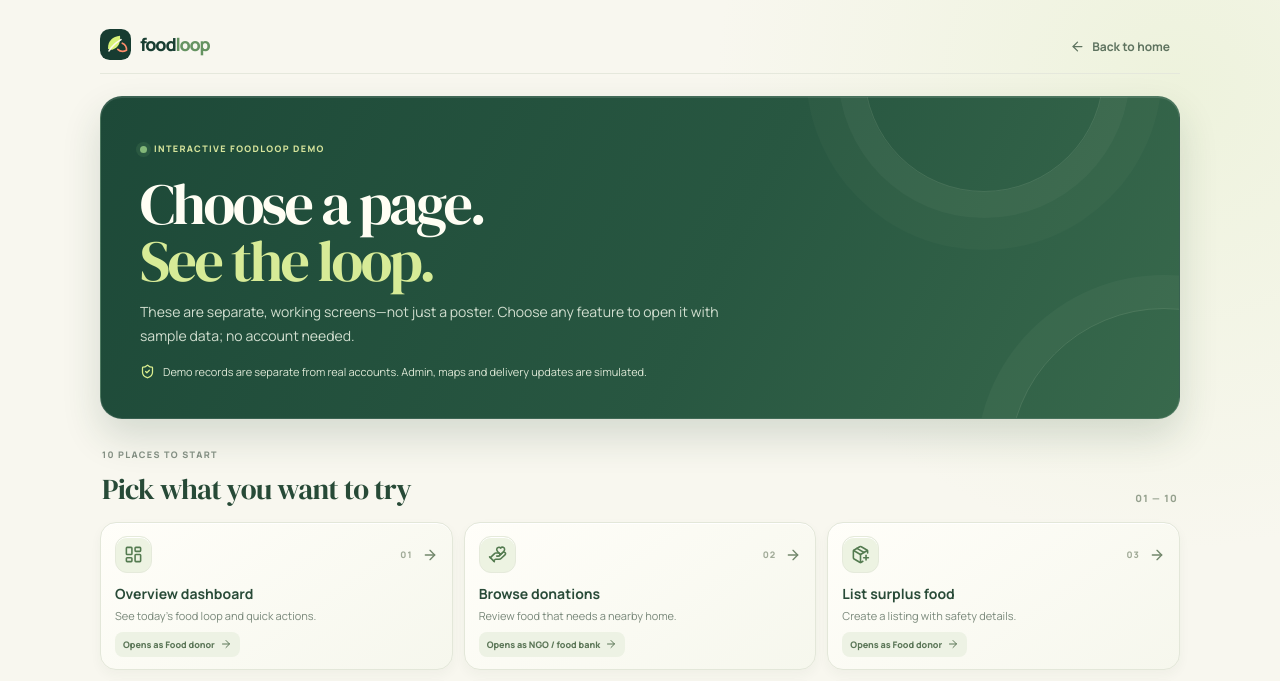
it: FoodLoop screen selection › opens Browse donations with the ngo demo identity
Click the button with aria-label "Open Browse donations as NGO / food bank": (497, 555) x1=464 y1=522 x2=816 y2=670
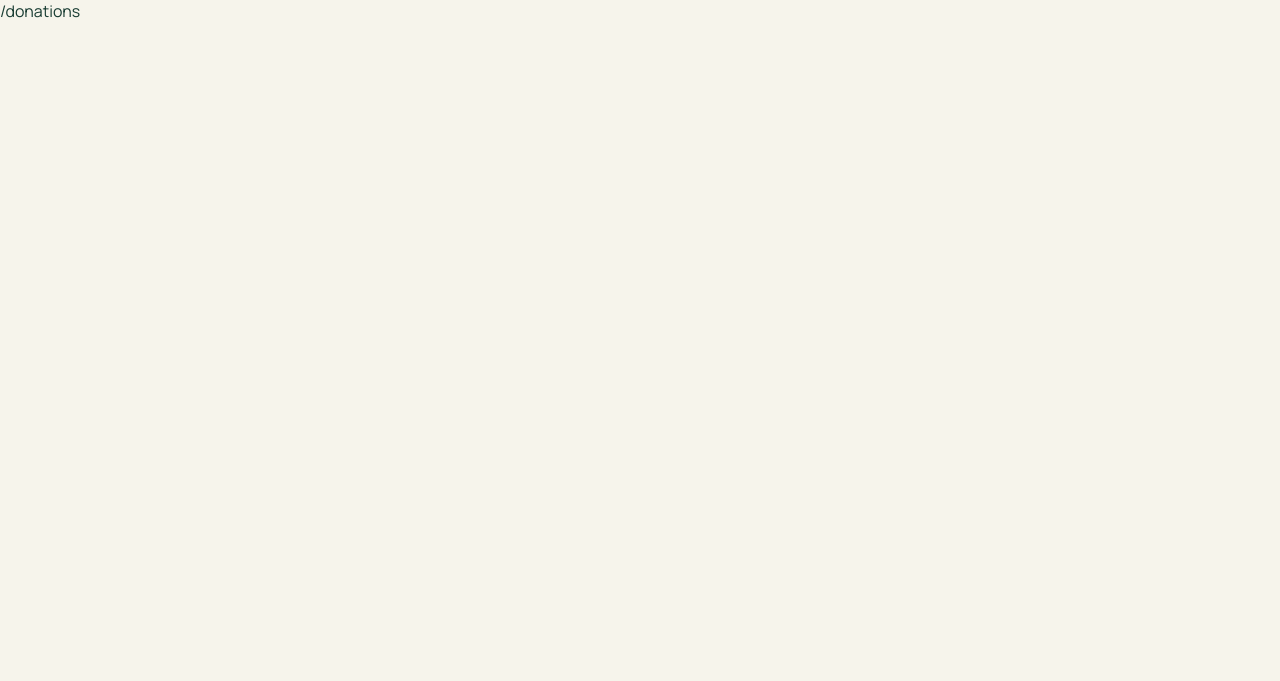
Expected: the text with test id "current-route" reads "/donations", x1=0 y1=0 x2=80 y2=22
